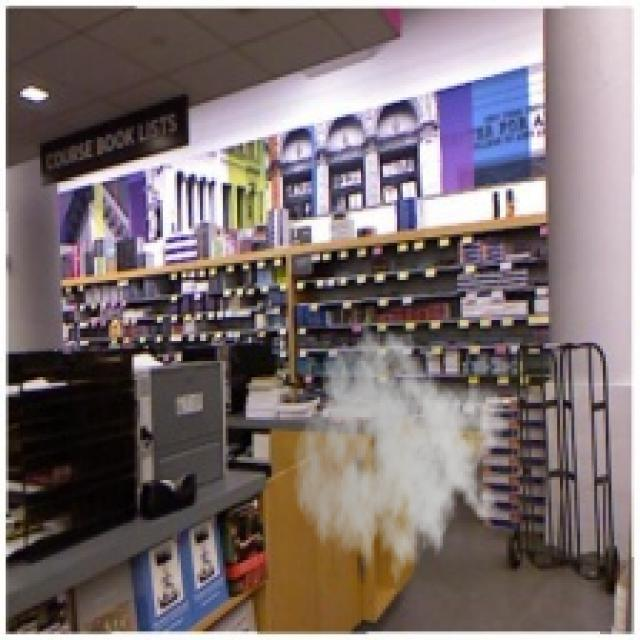Smoke: (291, 320, 506, 600)
